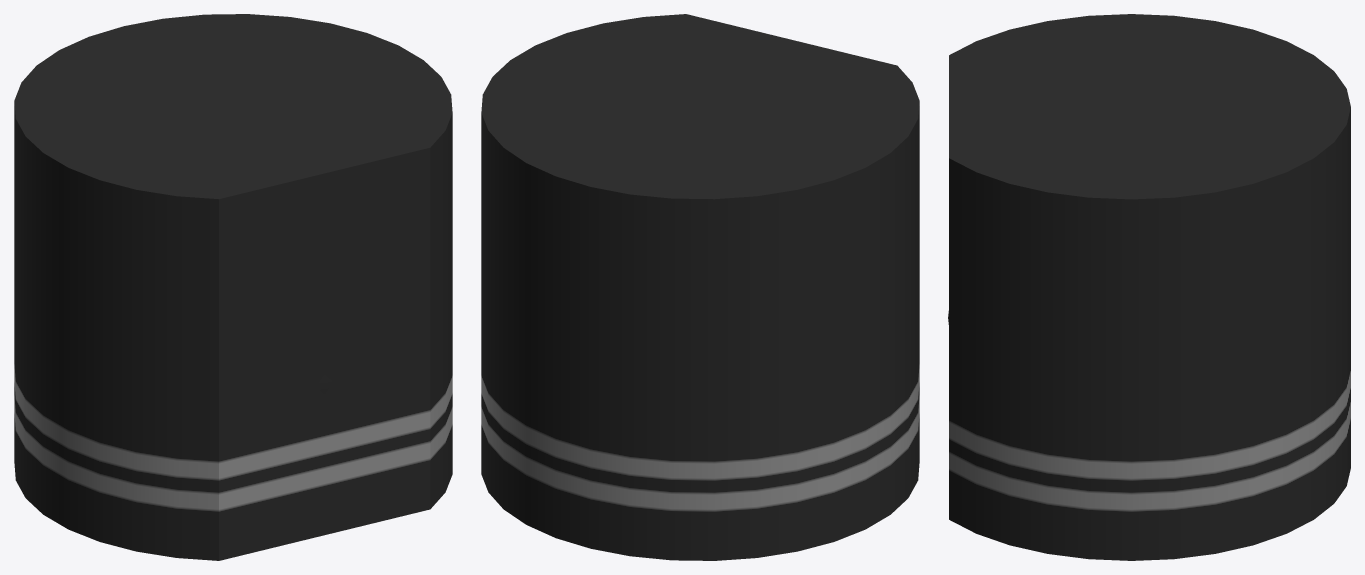
File: Standard.glb
The picture shows the model from 3 angles, left to right: view 1: azimuth 30°, elevation 25°; view 2: azimuth 150°, elevation 25°; view 3: azimuth 270°, elevation 25°; orthographic projection.
Parts seen in each view (by area): view 1: Flat; view 2: Flat; view 3: Flat.
Part boxes in pixels (x1,y1,x2,y2): Flat: (14,14,452,560); Flat: (481,14,919,560); Flat: (949,14,1350,560).
Bounding box in the file's own units: 1.1 × 1 × 1.01.
1 material, 1 textured.
